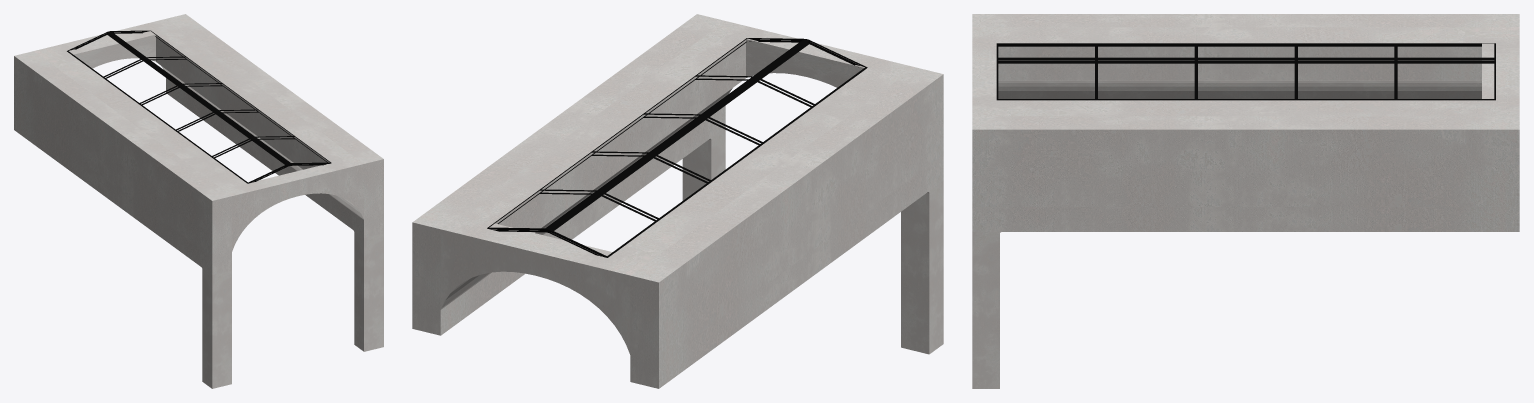
Rendered from CeilingArchEnd.glb.
3 renders of one model, left to right at view 1: azimuth 30°, elevation 25°; view 2: azimuth 150°, elevation 25°; view 3: azimuth 270°, elevation 25°, orthographic. The views are drawn at different scales.
Visible parts, largest first — view 1: Cube.017; view 2: Cube.017; view 3: Cube.017.
Boxes of the visible parts, box(x1,y1,x2,y2) form: Cube.017: box(14, 14, 383, 388); Cube.017: box(412, 14, 943, 388); Cube.017: box(972, 14, 1519, 388).
Size of the model in its own units: 8 by 8.8 by 16.
2 materials, 1 textured.
